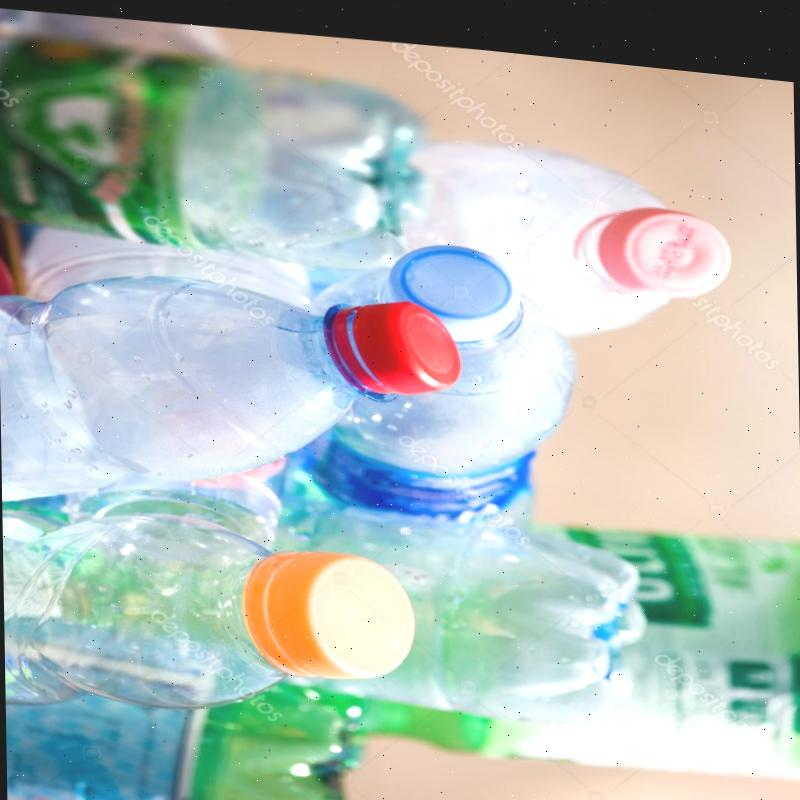botella: (339, 478, 800, 784), (0, 251, 463, 548), (1, 495, 430, 751), (0, 26, 439, 268), (368, 120, 736, 347), (314, 218, 588, 517), (307, 494, 656, 728)
